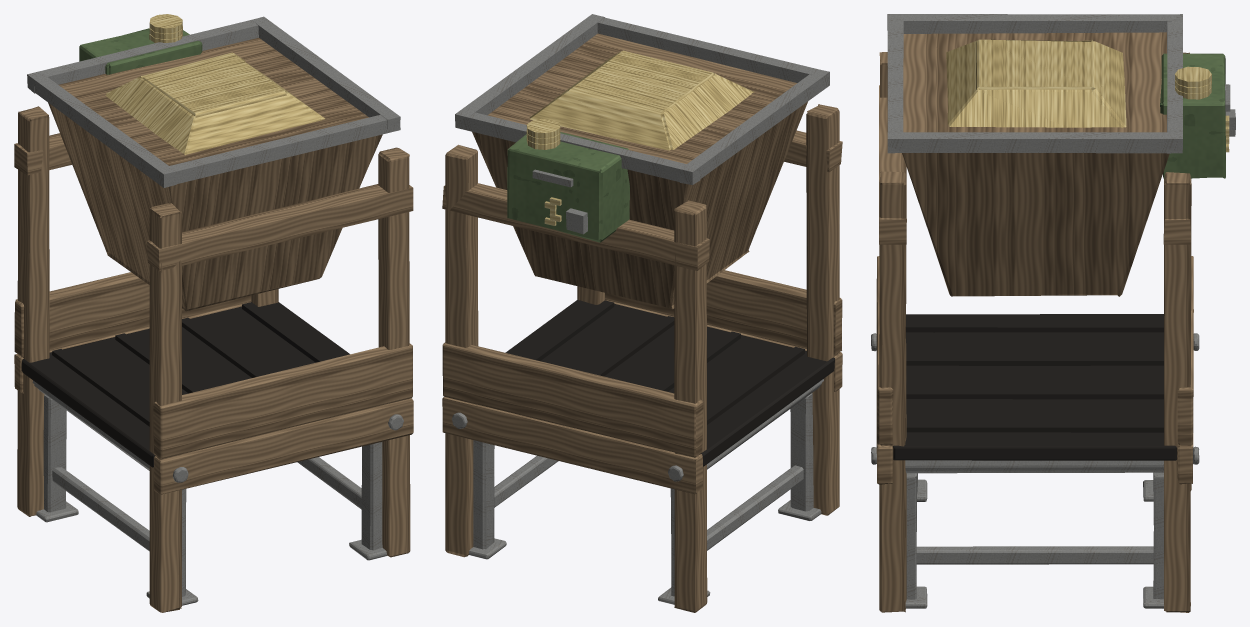
File: hay_buyer.glb
3 views of the same model, side by side, from view 1: azimuth 30°, elevation 25°; view 2: azimuth 150°, elevation 25°; view 3: azimuth 270°, elevation 25° (orthographic). The views are drawn at different scales.
Parts seen in each view (by area): view 1: HayBuyer, Belt, HayFill, Roller; view 2: HayBuyer, Belt, HayFill, Roller; view 3: HayBuyer, Belt, HayFill, Roller2.
Part boxes in pixels (box(x1,y1,x2,y2)): HayBuyer: box(14, 14, 413, 612); Belt: box(21, 302, 349, 467); HayFill: box(105, 52, 325, 155); Roller: box(32, 380, 149, 470); HayBuyer: box(442, 14, 842, 612); Belt: box(505, 299, 834, 466); HayFill: box(529, 50, 753, 150); Roller: box(707, 379, 823, 469); HayBuyer: box(871, 14, 1235, 612); Belt: box(893, 314, 1176, 460); HayFill: box(946, 39, 1126, 127); Roller2: box(905, 460, 1163, 473).
Bounding box in the file's own units: 1.69 × 2.86 × 1.94.
5 materials, 4 textured.
